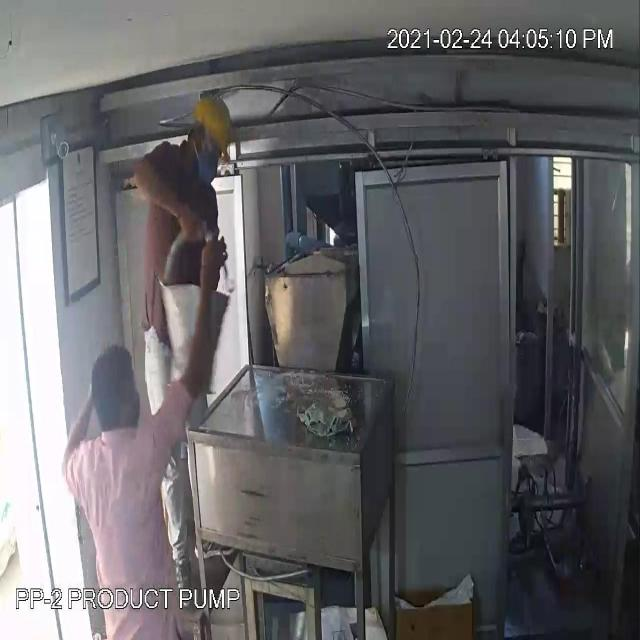helmet: (185, 81, 242, 170)
no-helmet: (88, 332, 148, 437)
